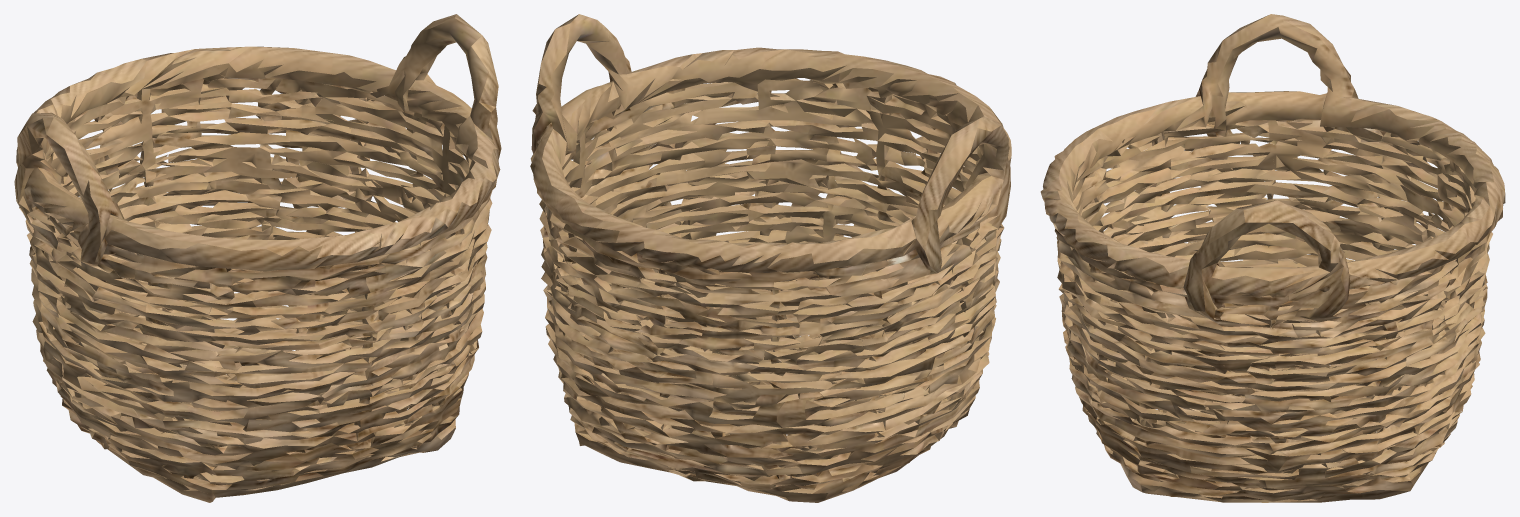
File: wicker-basket.glb
The picture shows the model from 3 angles, left to right: view 1: azimuth 30°, elevation 25°; view 2: azimuth 150°, elevation 25°; view 3: azimuth 270°, elevation 25°; orthographic projection. The views are drawn at different scales.
Parts seen in each view (by area): view 1: geometry_0; view 2: geometry_0; view 3: geometry_0.
Part boxes in pixels (x1,y1,x2,y2): geometry_0: [14, 14, 501, 502]; geometry_0: [530, 14, 1011, 502]; geometry_0: [1040, 14, 1505, 502].
Bounding box in the file's own units: 0.45 × 0.3574 × 0.4499.
Materials: 1 (1 with a texture image).
